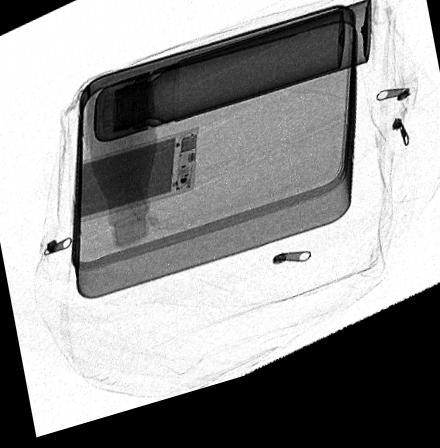Powerbank: (68, 137, 199, 229)
